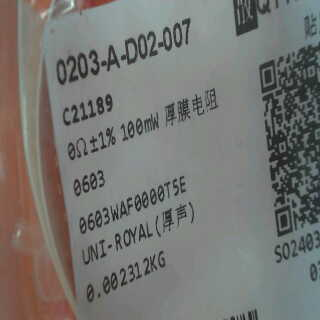0R: (68, 121, 120, 202)
